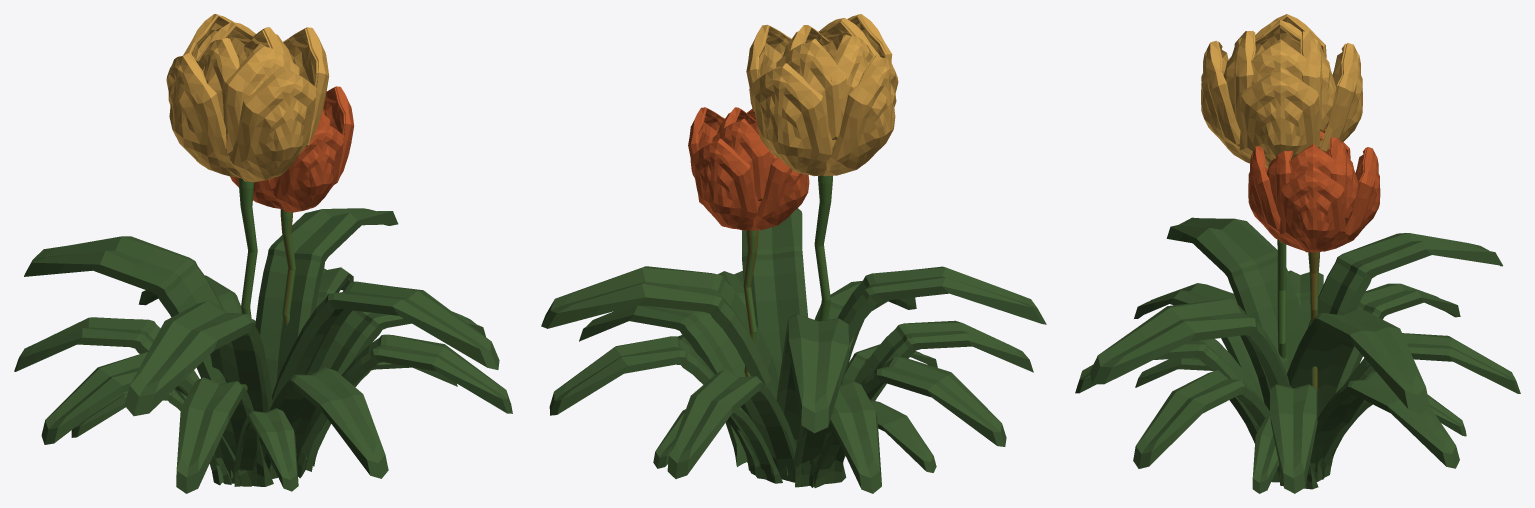
The model's file is FLOR_1.fbx.
3 renders of one model, left to right at view 1: azimuth 30°, elevation 25°; view 2: azimuth 150°, elevation 25°; view 3: azimuth 270°, elevation 25°, orthographic. The views are drawn at different scales.
Visible parts, largest first — view 1: Plane.005, Plane.006, Plane.000, Cylinder, Cylinder.001; view 2: Plane.005, Plane.006, Plane.000, Cylinder, Cylinder.001; view 3: Plane.005, Plane.006, Plane.000, Cylinder, Cylinder.001.
Boxes of the visible parts, x1,y1,x2,y2 form: Plane.005: (14, 208, 512, 493); Plane.006: (166, 14, 329, 182); Plane.000: (230, 86, 354, 212); Cylinder: (239, 178, 257, 390); Cylinder.001: (280, 209, 295, 326); Plane.005: (541, 208, 1046, 493); Plane.006: (746, 14, 898, 176); Plane.000: (688, 107, 809, 230); Cylinder: (814, 175, 832, 320); Cylinder.001: (743, 230, 758, 376); Plane.005: (1075, 217, 1520, 493); Plane.006: (1201, 14, 1362, 168); Plane.000: (1248, 127, 1380, 252); Cylinder: (1277, 239, 1286, 358); Cylinder.001: (1308, 252, 1319, 395).
Size of the model in its own units: 680 by 670 by 638.
